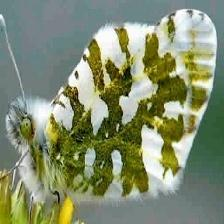butterfly: (6, 9, 218, 206)
